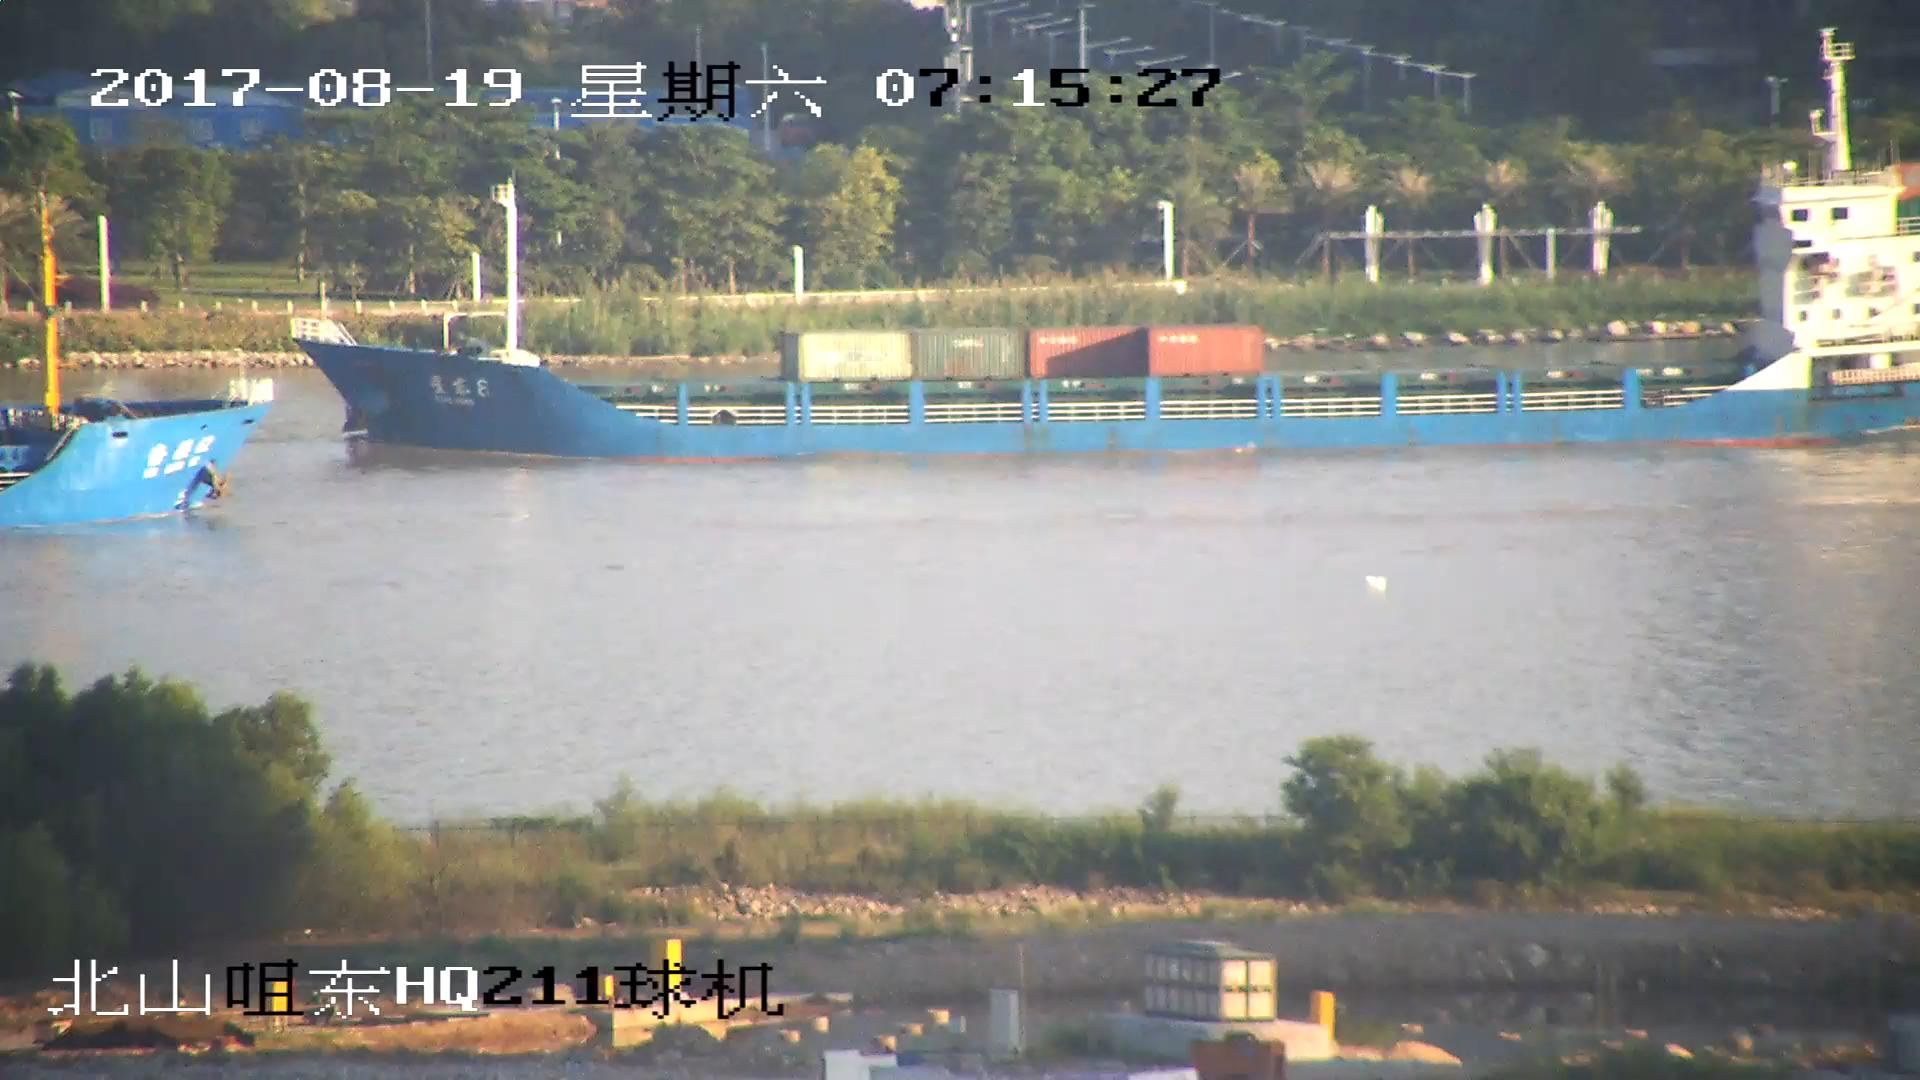general cargo ship: (293, 99, 1920, 453), (1, 193, 264, 521)
